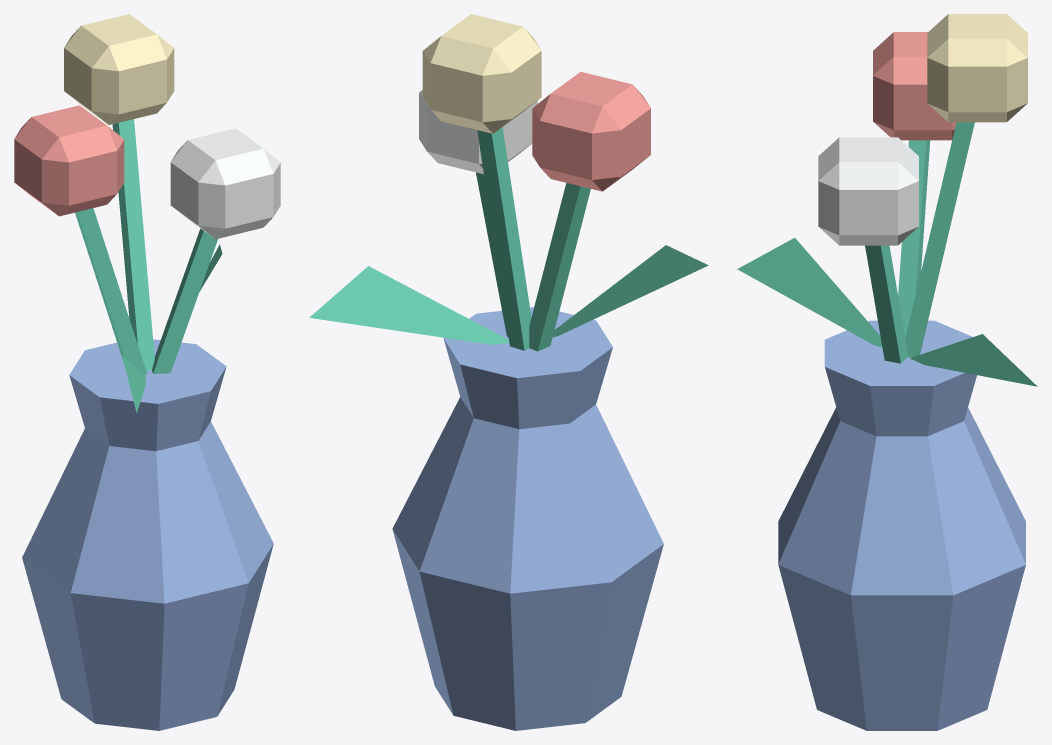
The model's file is small_vase.glb.
The picture shows the model from 3 angles, left to right: view 1: azimuth 30°, elevation 25°; view 2: azimuth 150°, elevation 25°; view 3: azimuth 270°, elevation 25°; orthographic projection. The views are drawn at different scales.
Parts seen in each view (by area): view 1: SmallVase; view 2: SmallVase; view 3: SmallVase.
Part boxes in pixels (box(x1,y1,x2,y2)): SmallVase: box(14, 14, 280, 730); SmallVase: box(309, 14, 708, 730); SmallVase: box(737, 14, 1037, 730).
Bounding box in the file's own units: 0.0856 × 0.2092 × 0.0849.
